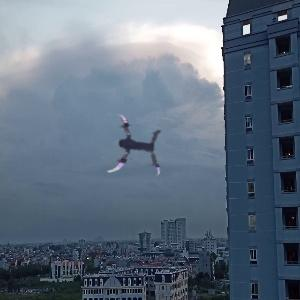drone: (97, 112, 166, 181)
